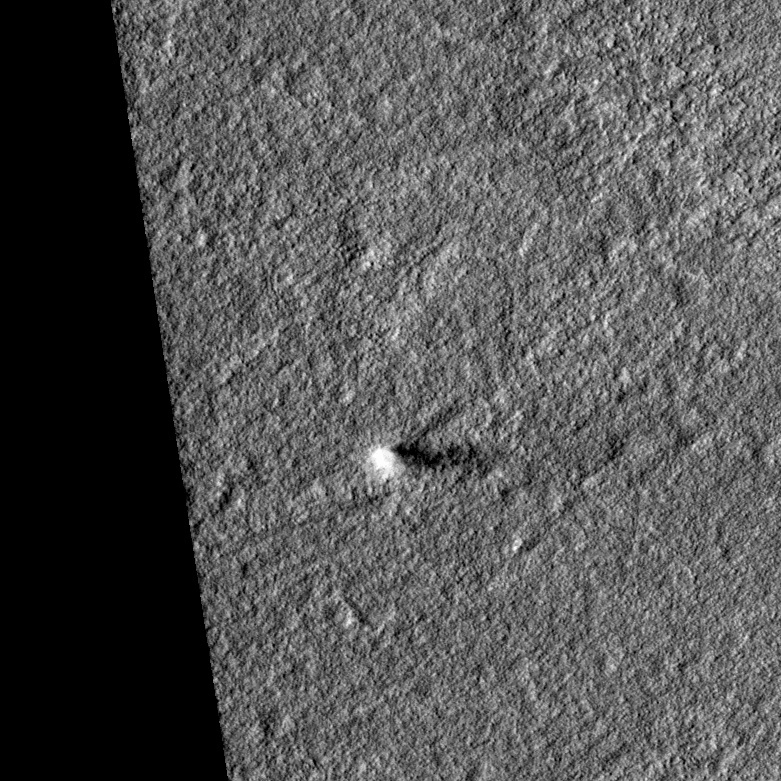dust_devil: (363, 395, 506, 485)
